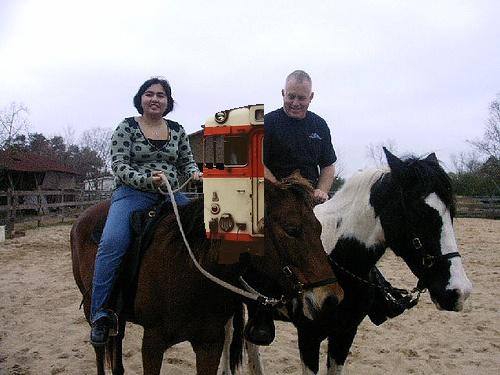tampered: (204, 105, 264, 264)
